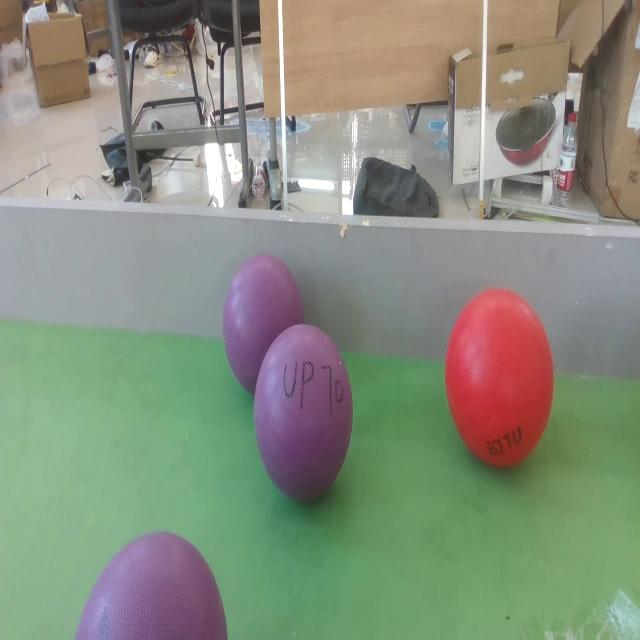invalid: (68, 524, 228, 640), (253, 325, 353, 501), (222, 256, 308, 392)
red: (445, 289, 554, 465)
